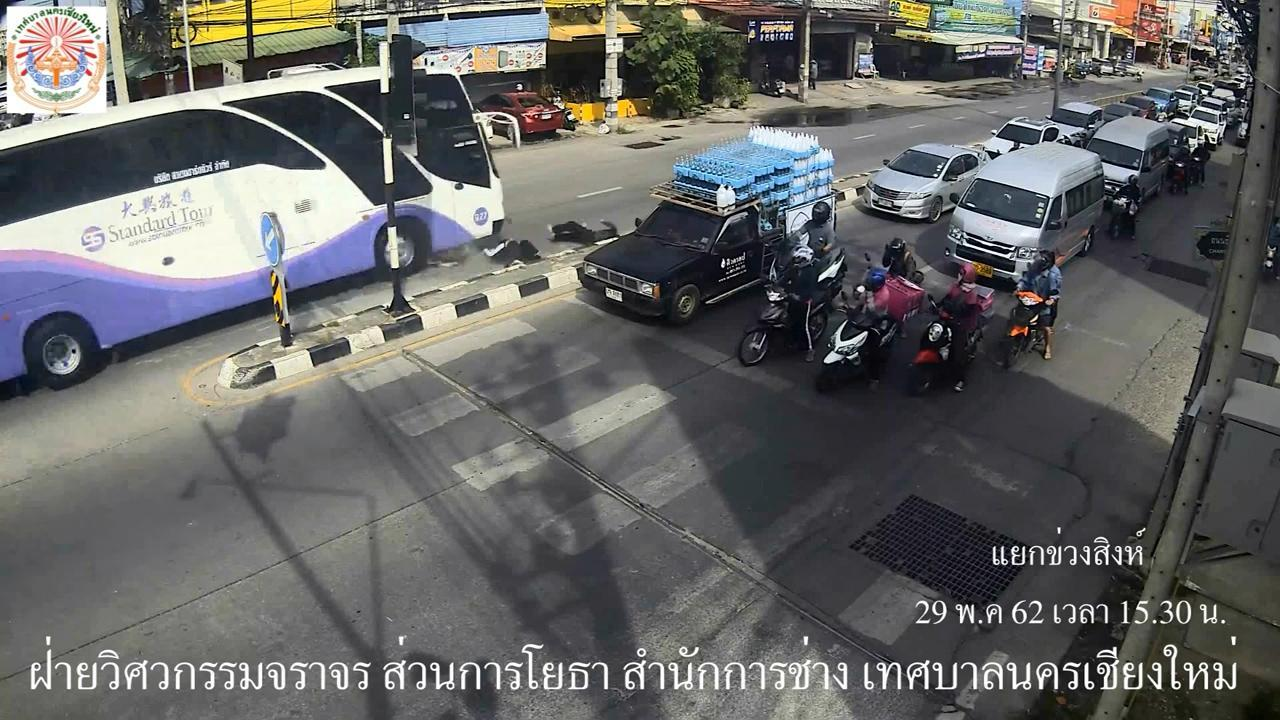accident: (545, 216, 625, 244)
